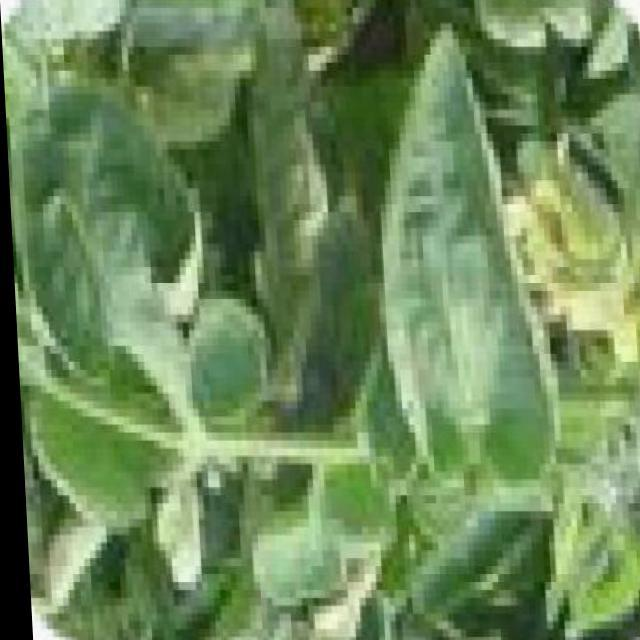Tomato mold leaf: (10, 62, 232, 480), (364, 22, 546, 496)
